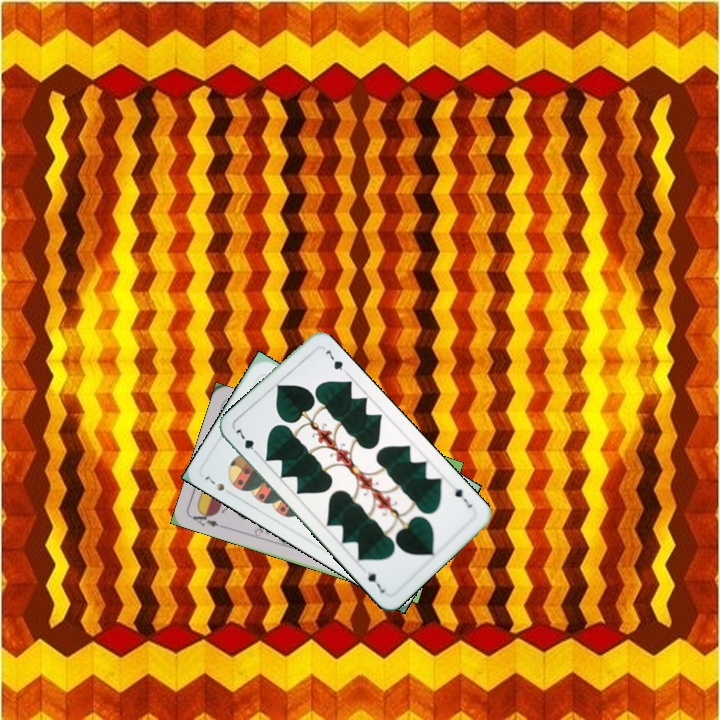EA: (189, 507, 227, 531)
G7: (231, 423, 262, 458), (448, 481, 475, 510)
S7: (200, 472, 236, 498)
